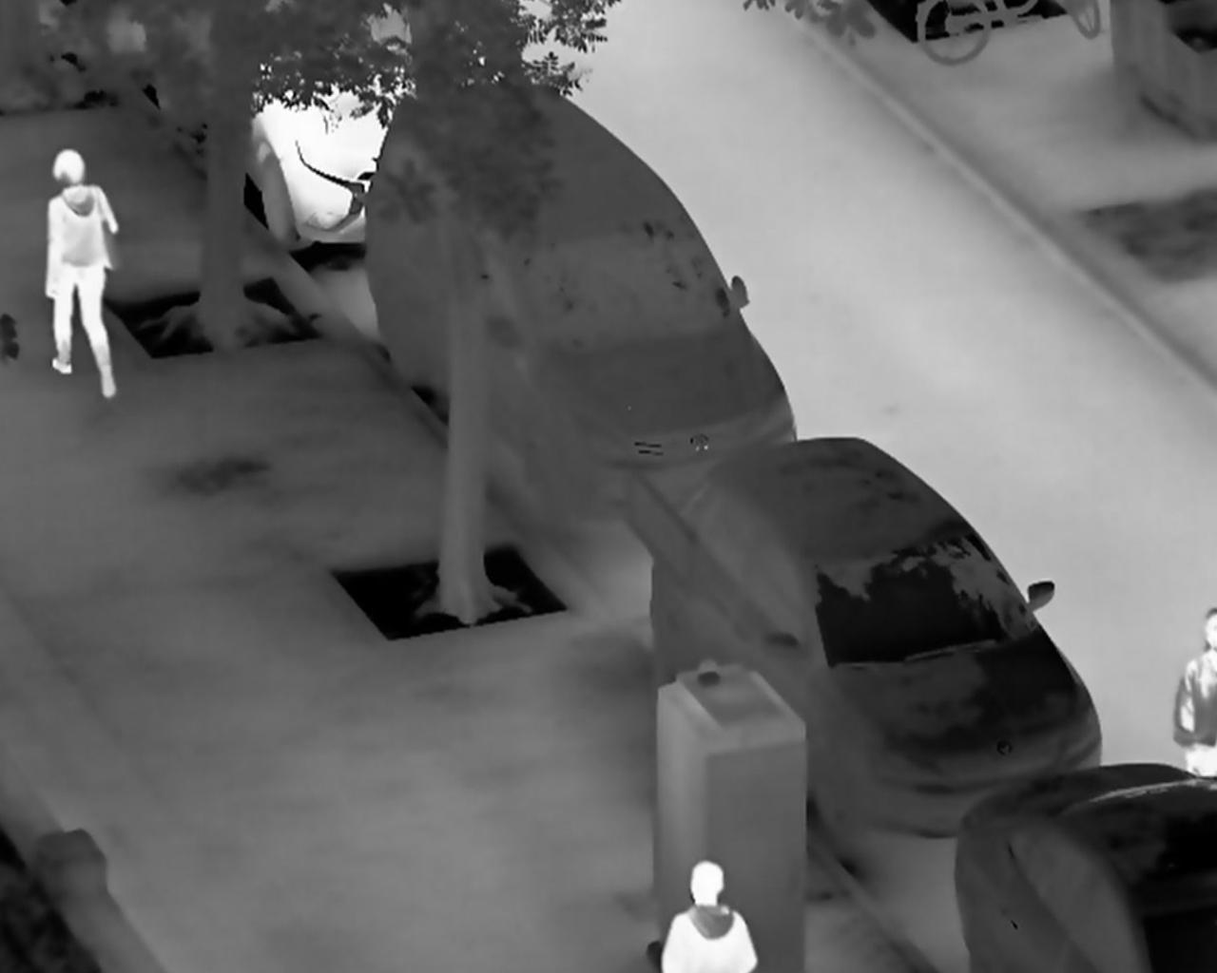person: (43, 146, 125, 403), (660, 853, 766, 970)
